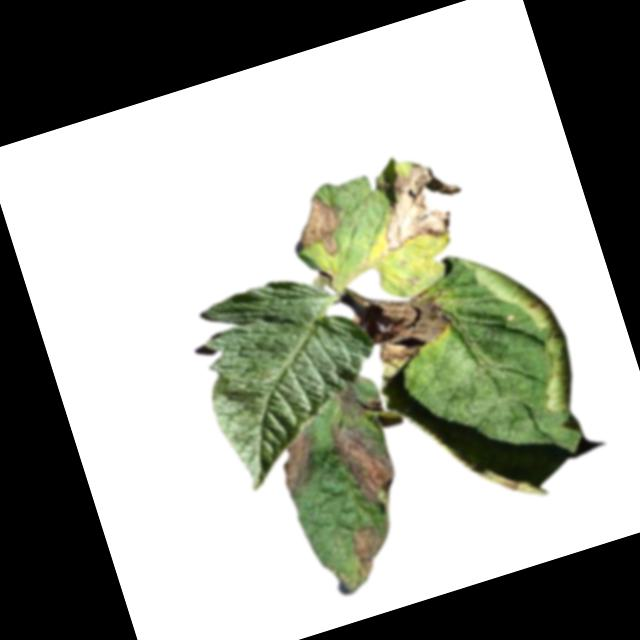Late_blight: (364, 157, 475, 259), (349, 278, 464, 375), (326, 409, 407, 518), (279, 188, 354, 267), (272, 427, 327, 499), (347, 521, 396, 584), (335, 378, 385, 424)
